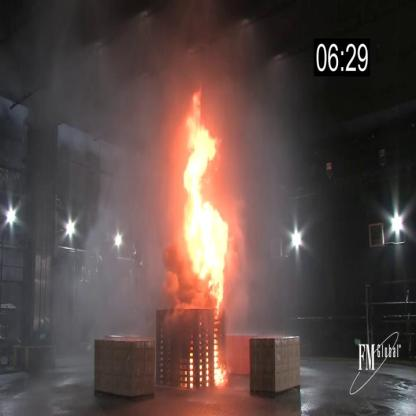fire: (180, 85, 231, 308), (213, 331, 228, 390)
